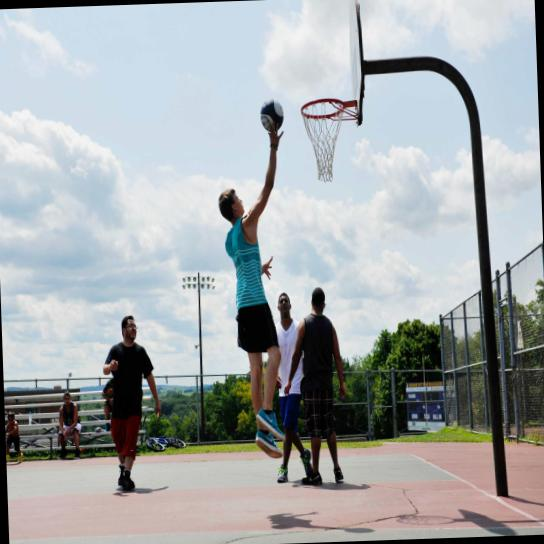basketball-hoop: (298, 94, 350, 185)
